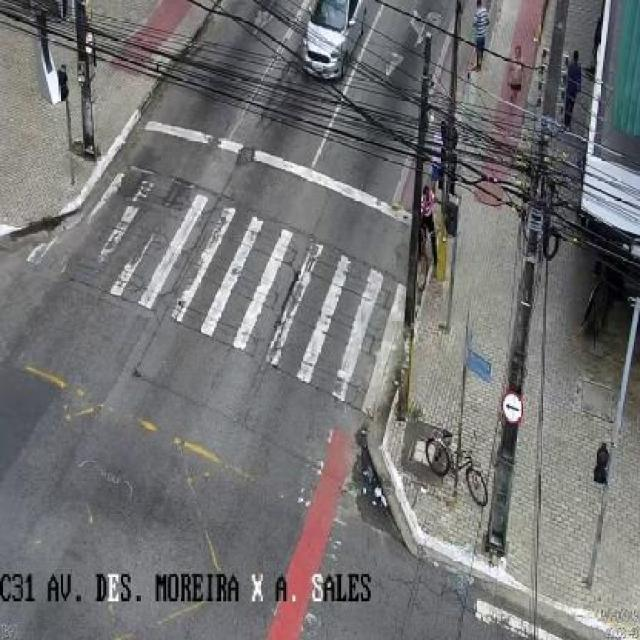Car: (300, 0, 367, 80)
